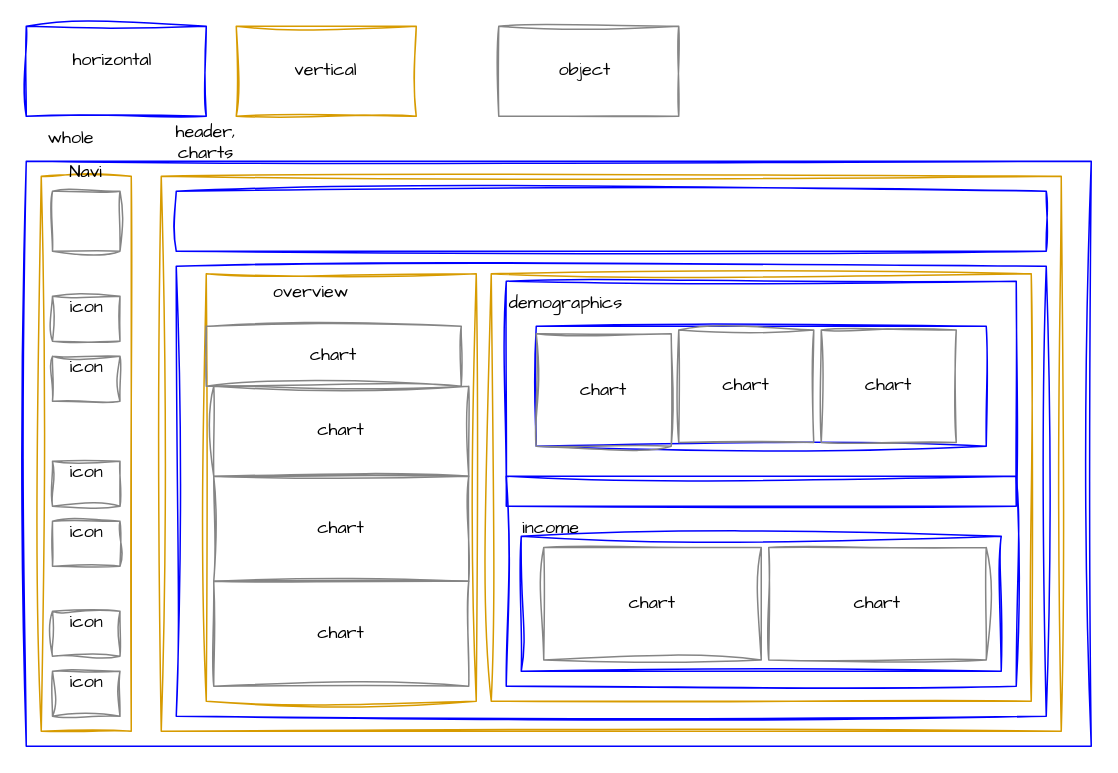
The diagram is 1118 pixels wide and 773 high, and some of its shapes have lost their labels. The box of each missing label's shape, as (x1, y1, x2, y2) in pixels:
logo: (51, 190, 120, 251)
title: (175, 190, 1046, 251)
